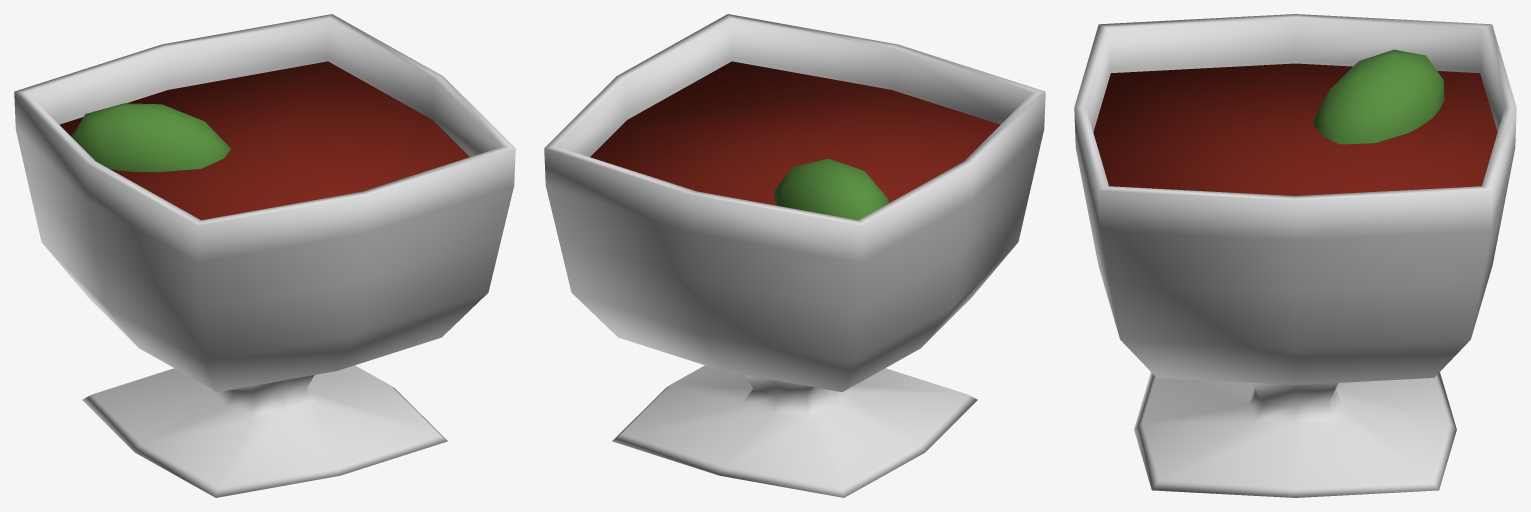
The model's file is dessert red and white.fbx.
The picture shows the model from 3 angles, left to right: view 1: azimuth 30°, elevation 25°; view 2: azimuth 150°, elevation 25°; view 3: azimuth 270°, elevation 25°; orthographic projection. The views are drawn at different scales.
Visible parts, largest first — view 1: dessert red and white; view 2: dessert red and white; view 3: dessert red and white.
Boxes of the visible parts, x1,y1,x2,y2 form: dessert red and white: (14, 14, 515, 497); dessert red and white: (544, 14, 1045, 497); dessert red and white: (1074, 14, 1516, 497).
Bounding box in the file's own units: 12.32 × 10.01 × 12.32.
